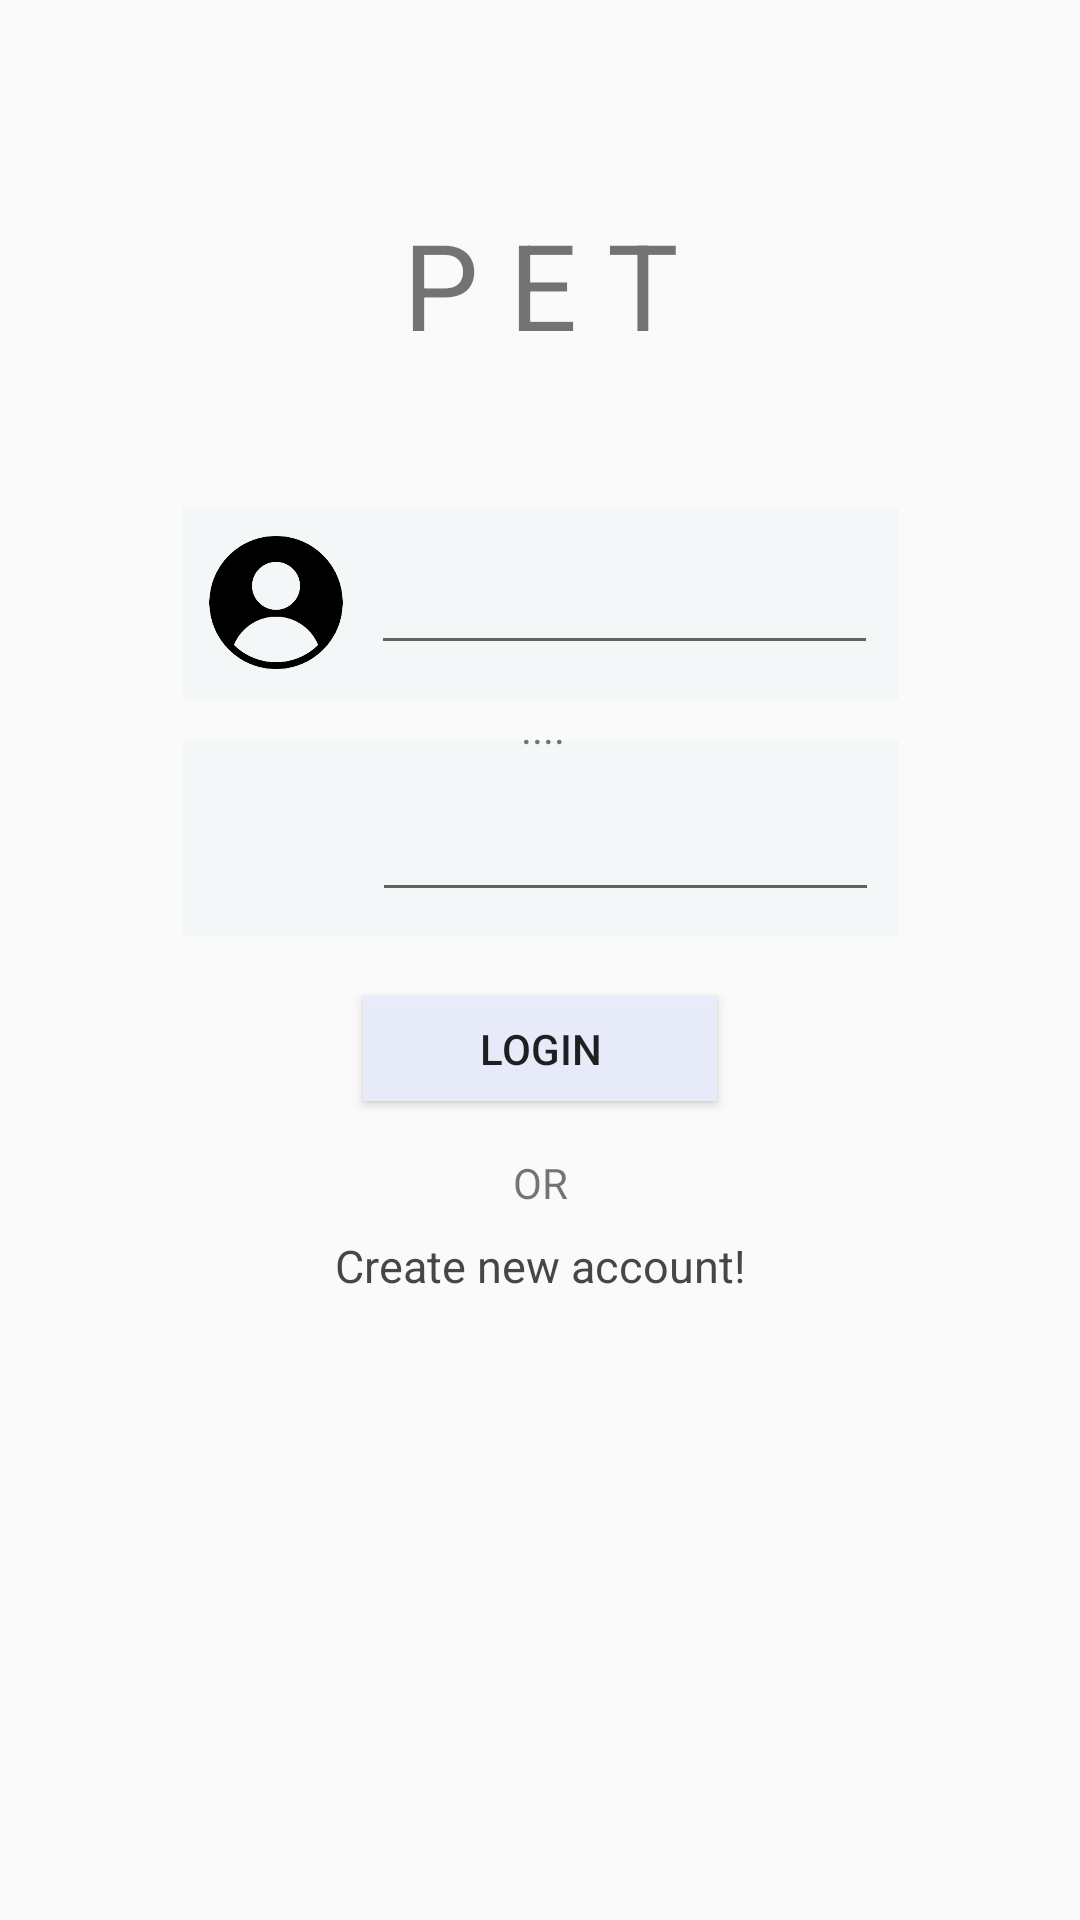

Icon click points for this 1080px×1920px phone screenshot, format point (x, y):
account: point (276, 602)
